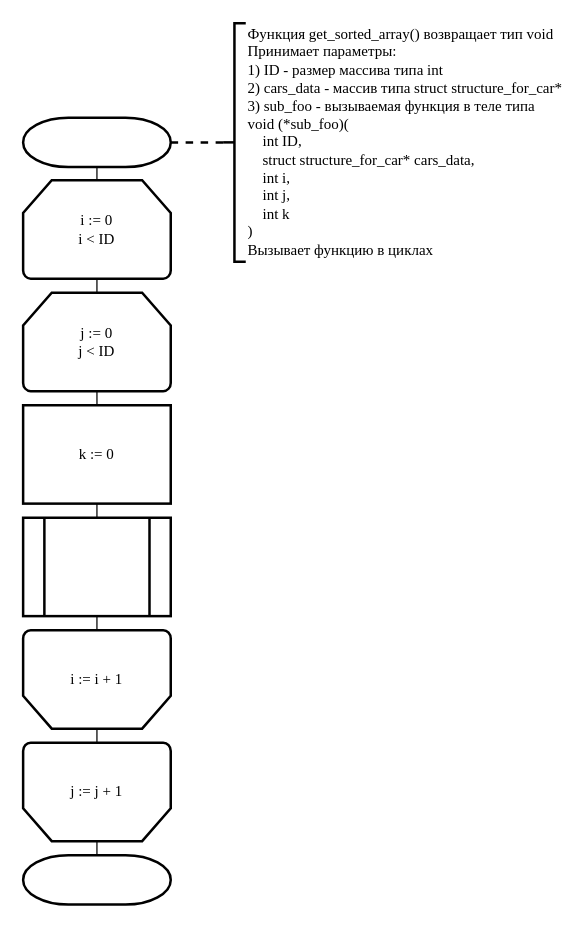
Some shapes in this 585 by 928 pixel diagram are drawn without their labels. Here are the shapes that lost their labels. From the top down, the box of each, then its label:
(21, 116, 171, 168): void get_sorted_array()
(21, 516, 171, 617): sub_foo( ID, cars_data, i, j, k )
(21, 853, 171, 905): Конец
